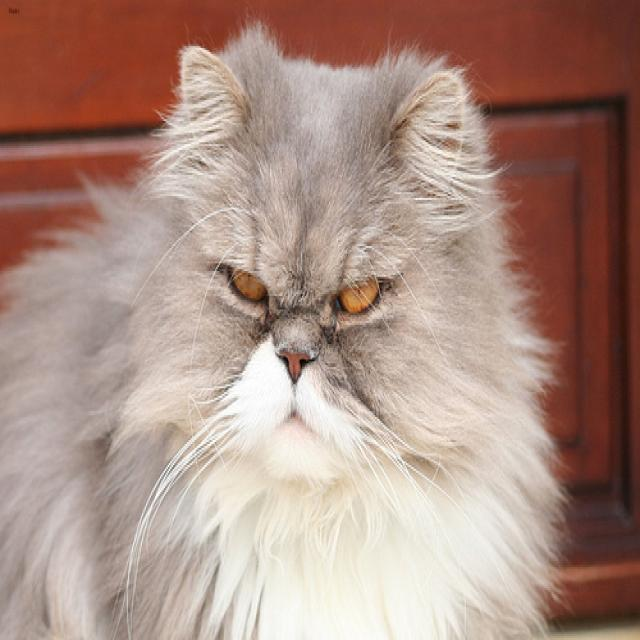Persian: (143, 17, 521, 490)
